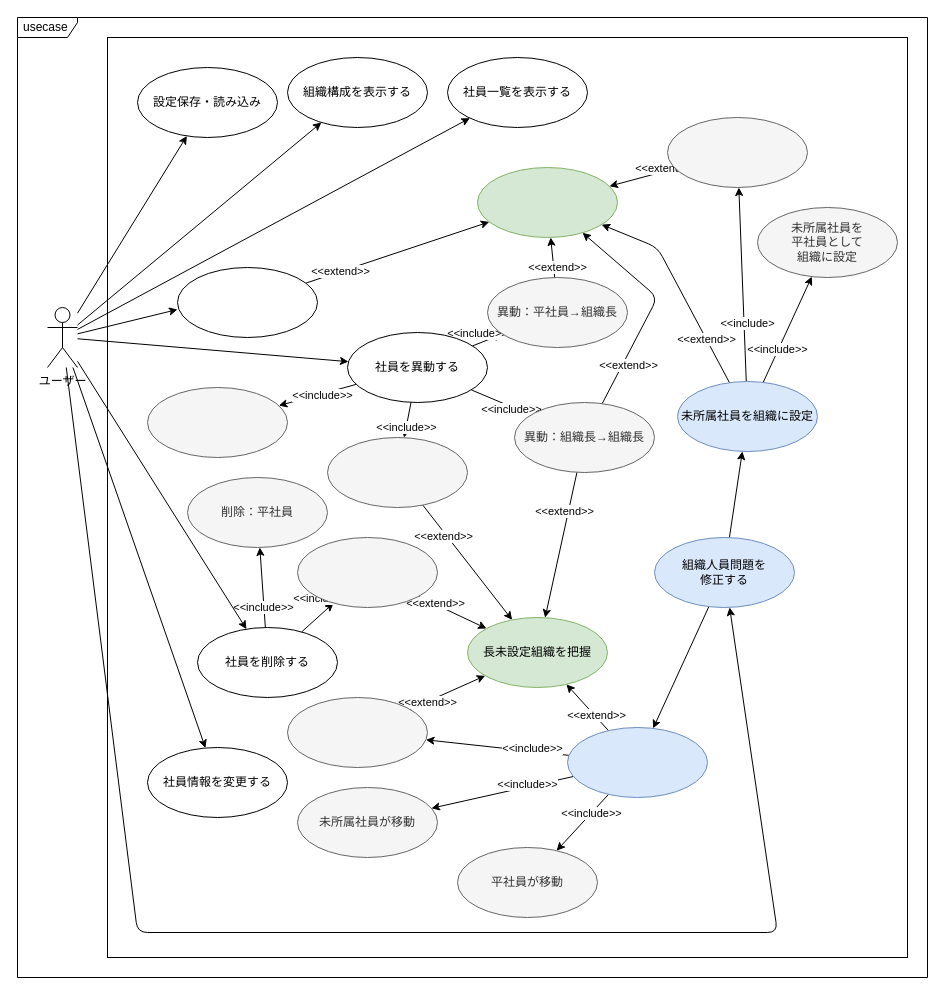
Image size: 945x995. Some labels were removed from this diagram. Here are the shapes that lost their labels. From the top down, the box of each, then its label:
(666, 116, 808, 188): 未所属社員を 組織長として 組織に設定
(476, 166, 618, 238): 未所属社員を把握
(176, 266, 318, 338): 社員を追加する
(146, 386, 288, 458): 異動：平社員→平社員
(326, 436, 468, 508): 異動：組織長→平社員
(296, 536, 438, 608): 削除：組織長
(286, 696, 428, 768): 他組織の組織長が 異動
(566, 726, 708, 798): 長未設定組織に 組織長を設定
